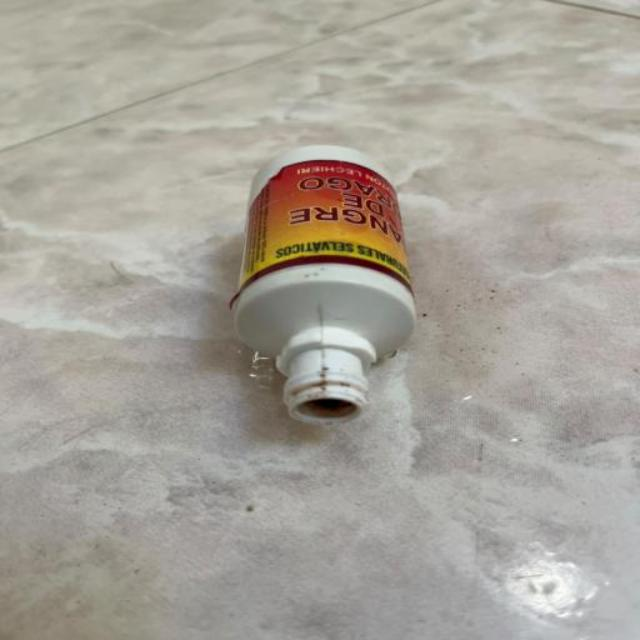HDPE: (143, 105, 477, 462)
